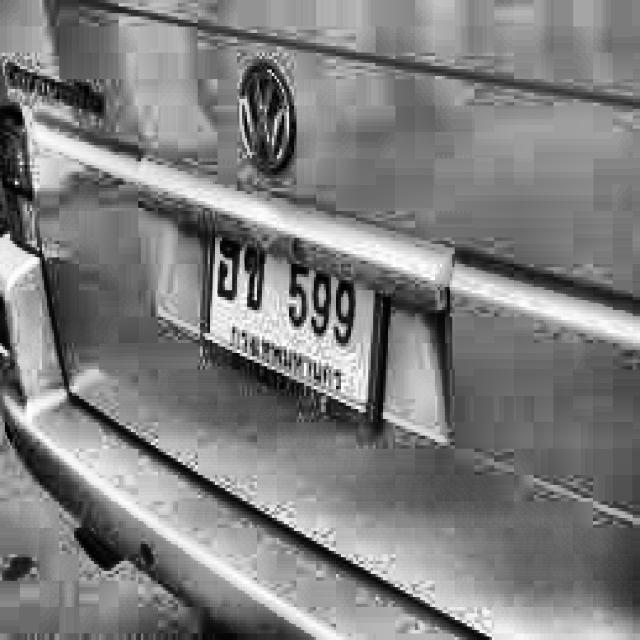license-plate: (198, 211, 388, 434)
